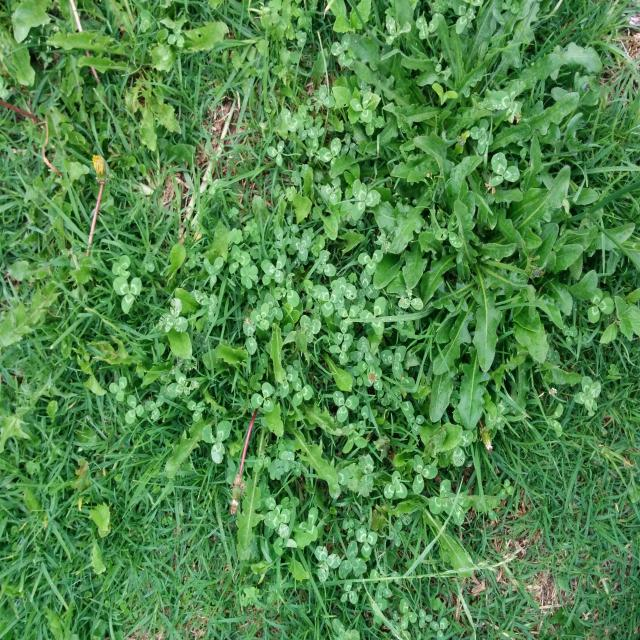Four Leaf Clover: (574, 376, 601, 416), (470, 118, 493, 155)
